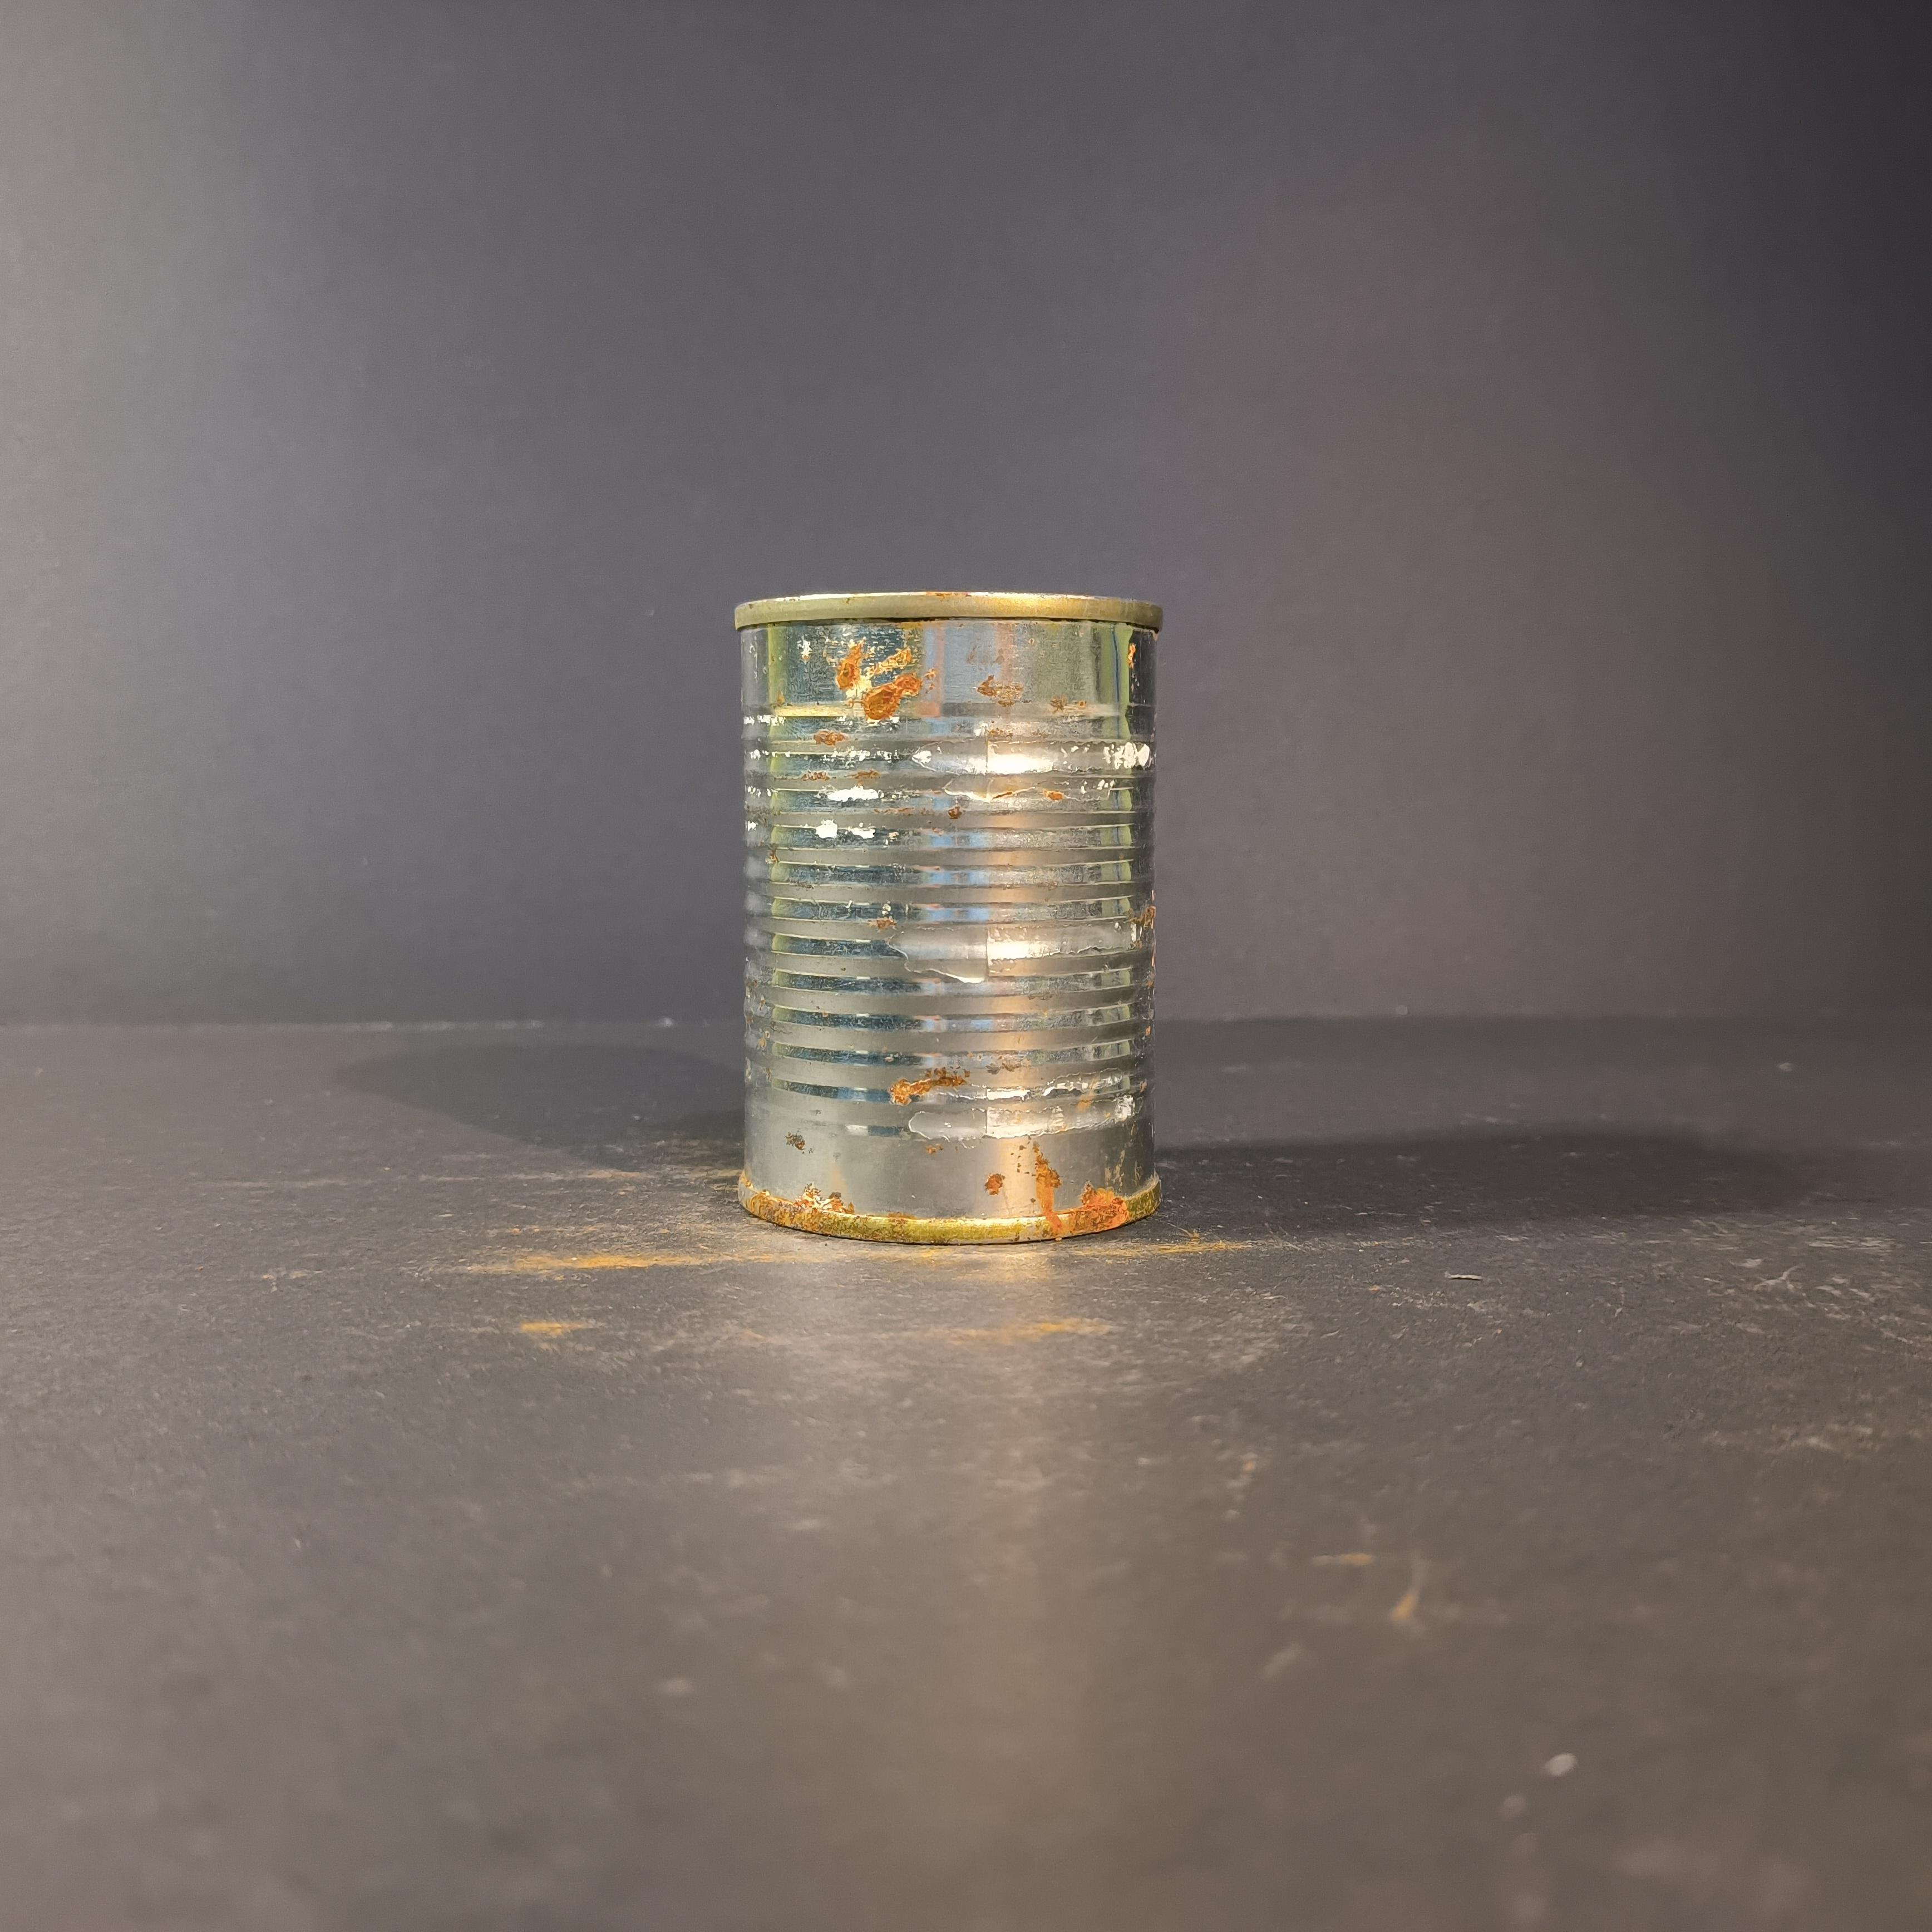Rusted: (704, 563, 1185, 1279)
